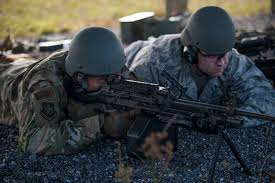gun: (65, 73, 274, 166)
